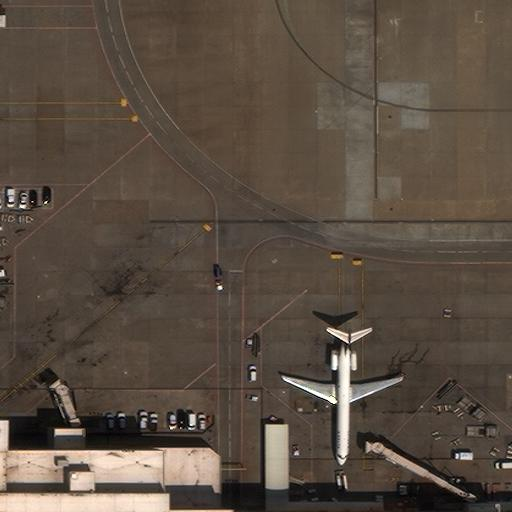Medium Civil Transport: (283, 329, 403, 470)
